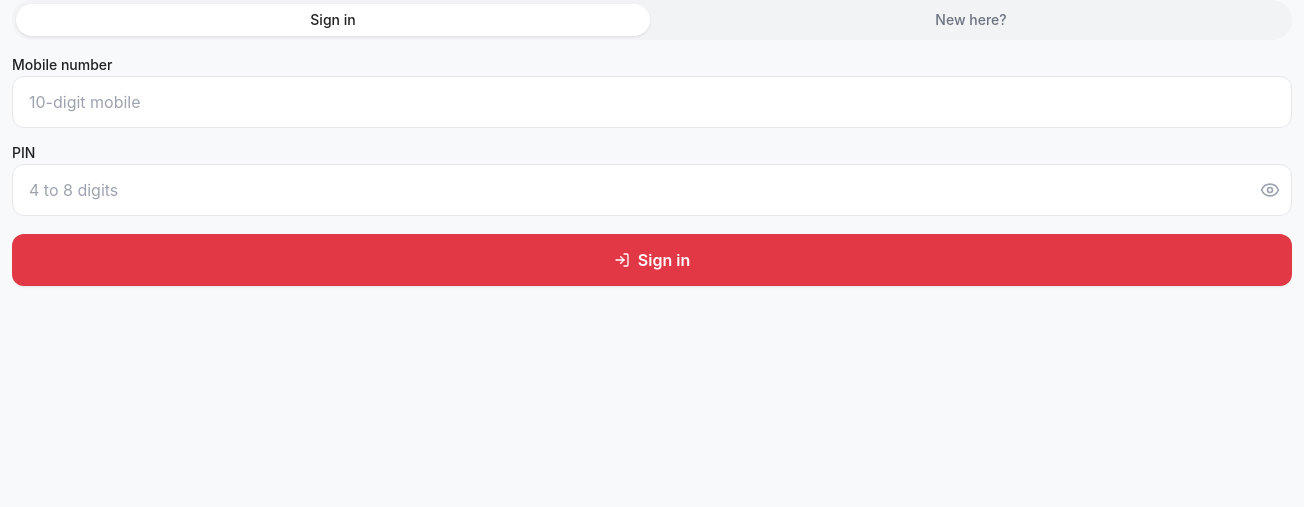
it: CustomerMobileAuth › refuses an easy PIN when choosing one
Step 1. Click the tab "New here?" → click(971, 20), box [654,4,1288,36]
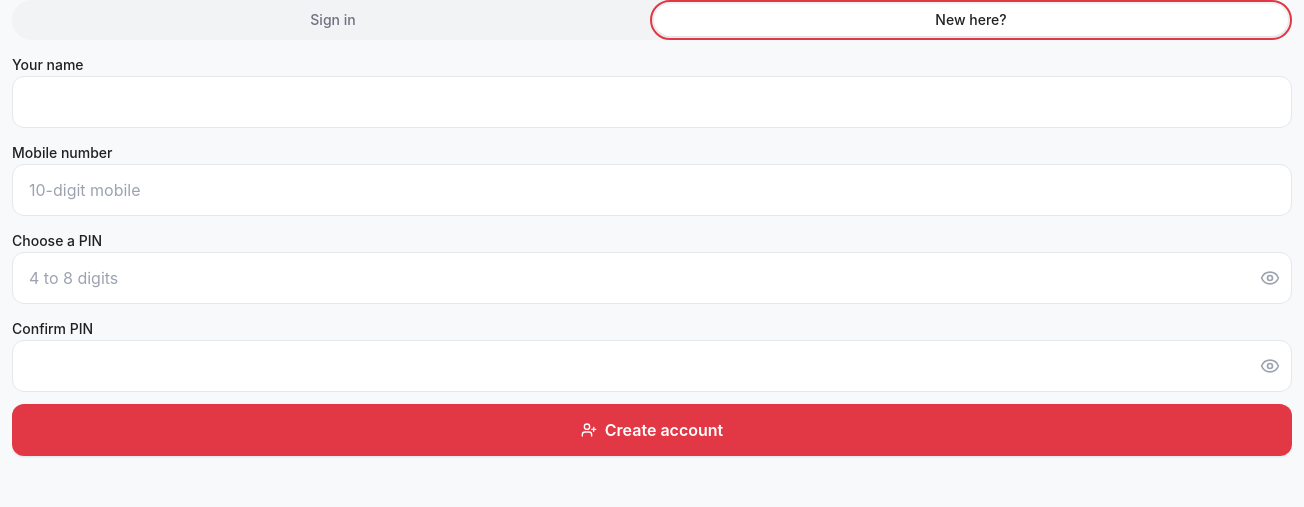
Step 2. Type "Asha" into the field labelled "Your name" → (652, 102), box [12,76,1292,128]
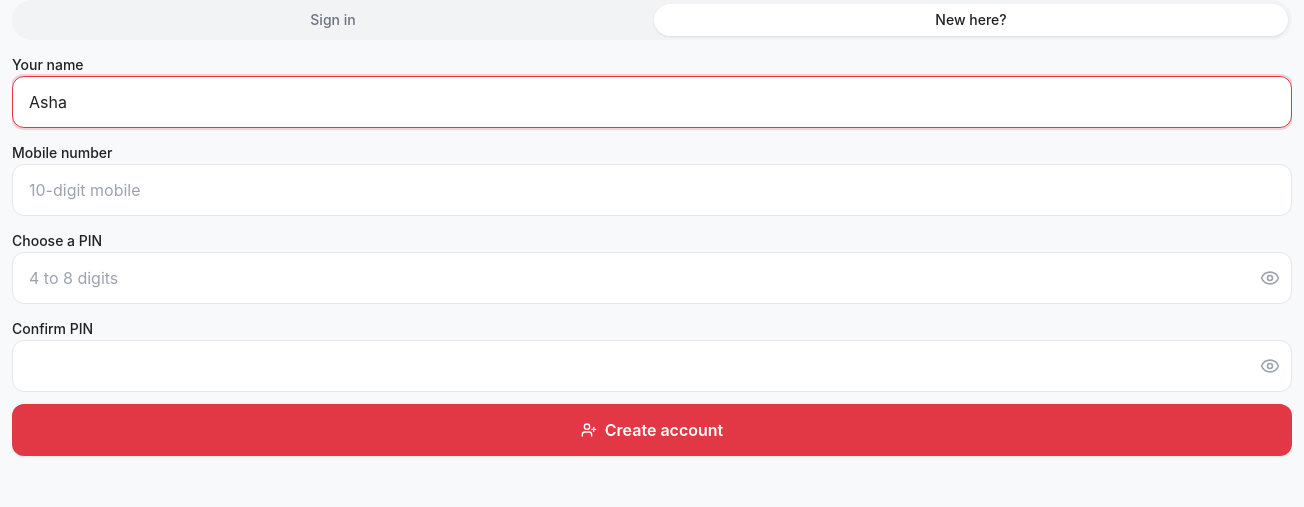
Step 3. Type "9876543210" into the field labelled "Mobile number" → (652, 190), box [12,164,1292,216]
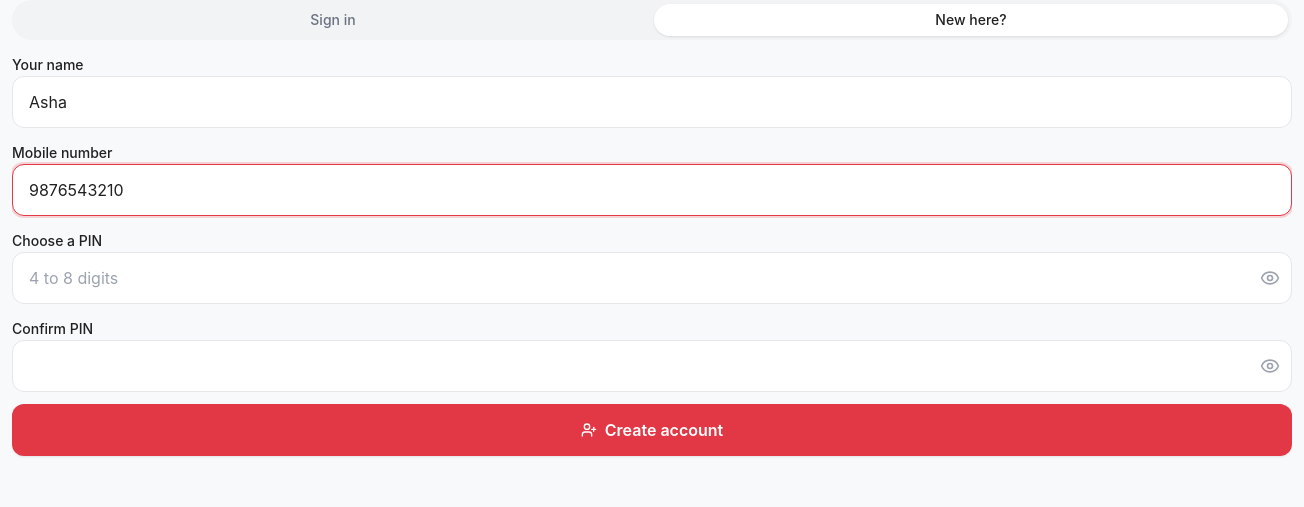
Step 4. Type "1234" into the password field labelled "Choose a PIN" → (652, 278), box [12,252,1292,304]
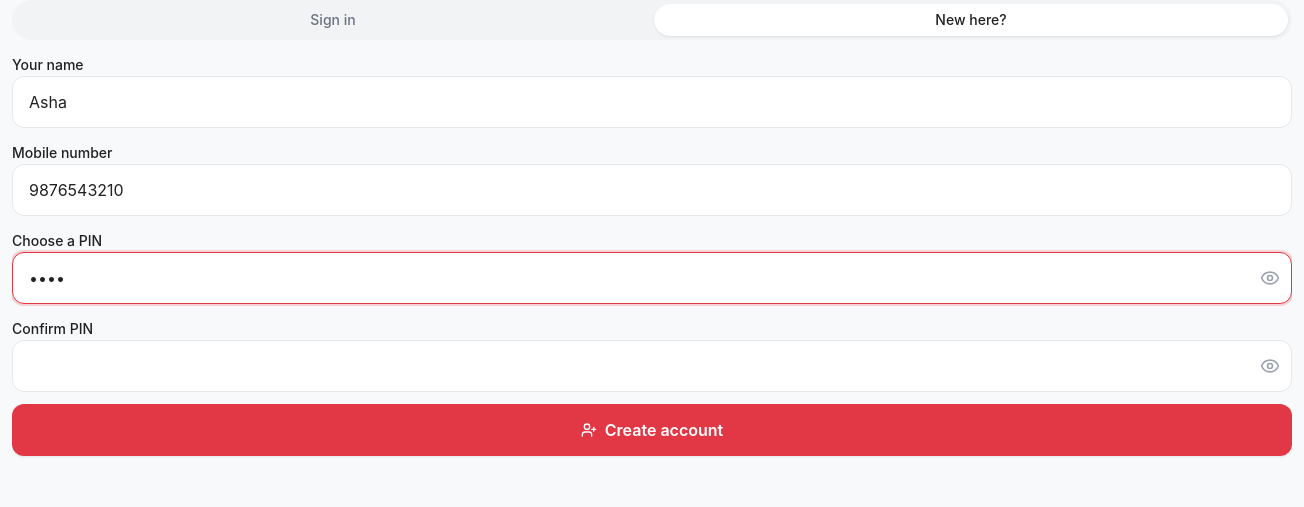
Step 5. Type "1234" into the password field labelled "Confirm PIN" → (652, 366), box [12,340,1292,392]
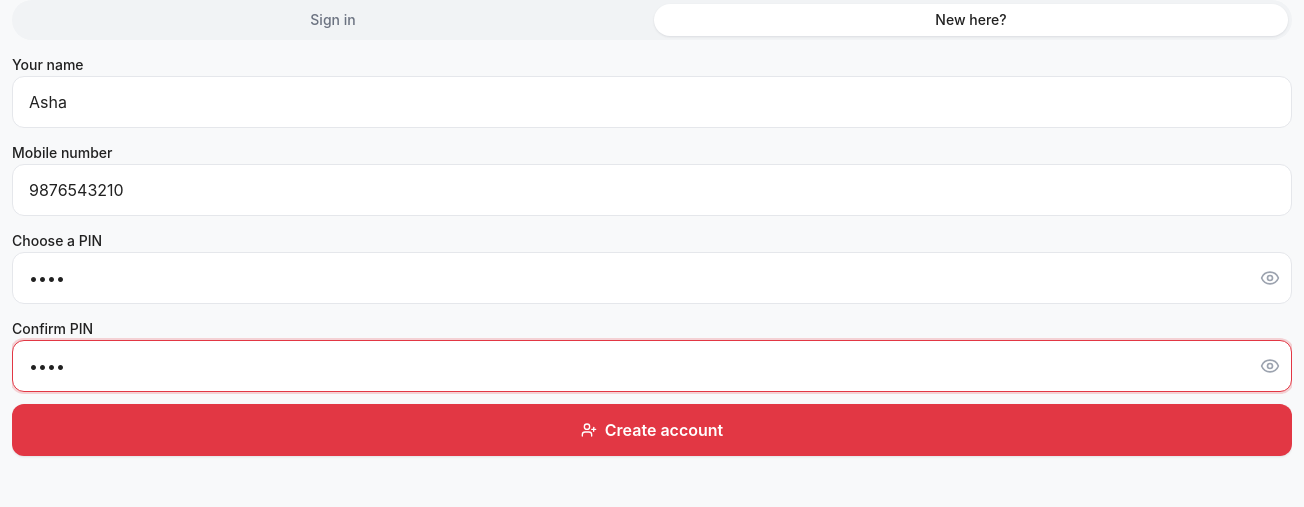
Step 6. Click the button "Create account" → click(652, 430), box [12,404,1292,456]
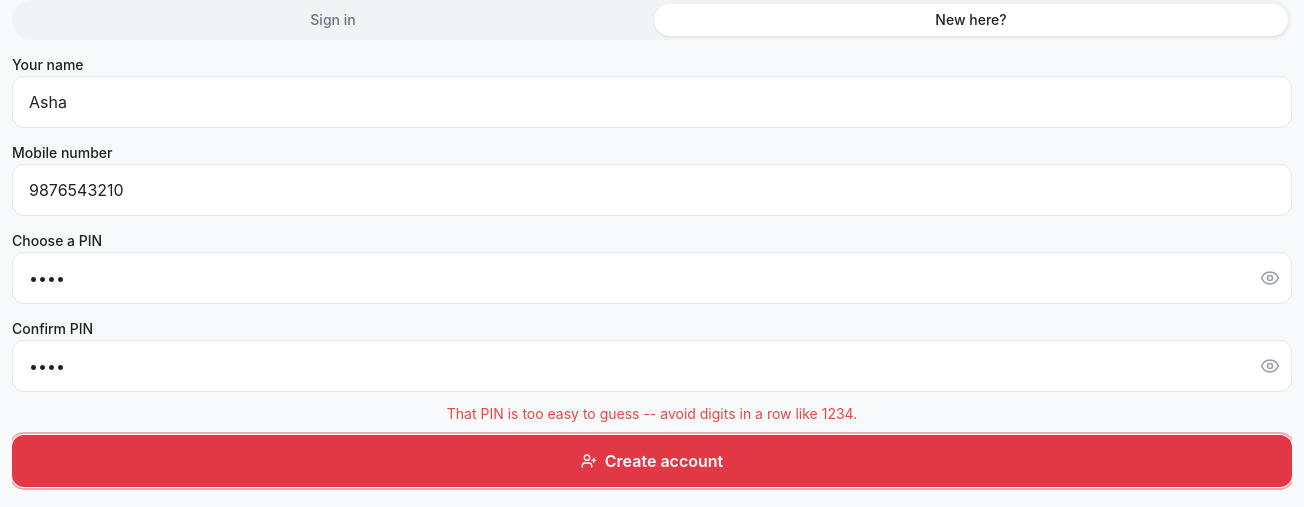
Expected: the text "That PIN is too easy to guess -- avoid digits in a row like 1234." is shown, [447,405,857,422]
